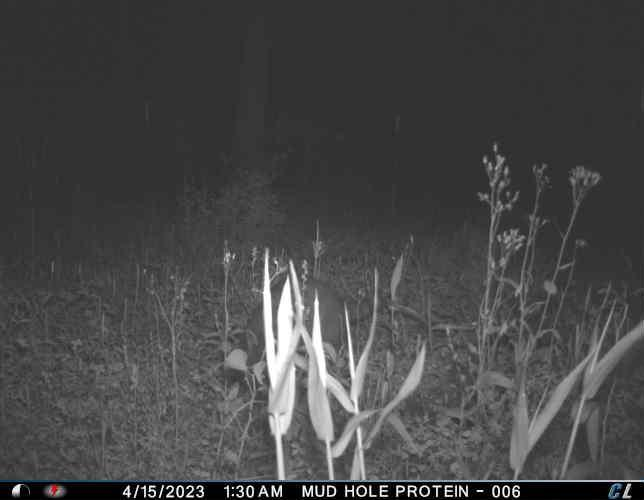Raccoon: (239, 266, 382, 374)
